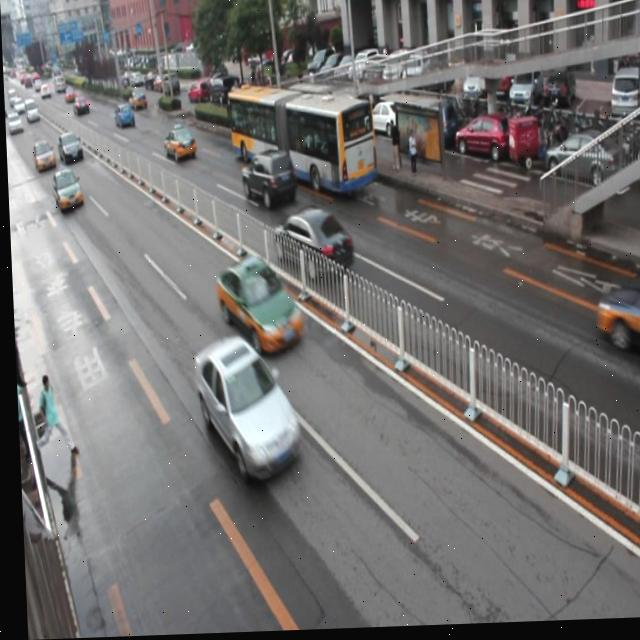car: (191, 339, 296, 483), (214, 257, 302, 357), (271, 210, 351, 282), (593, 284, 640, 371), (238, 149, 292, 210), (49, 164, 81, 211), (161, 125, 195, 162)
van: (226, 81, 376, 202)
